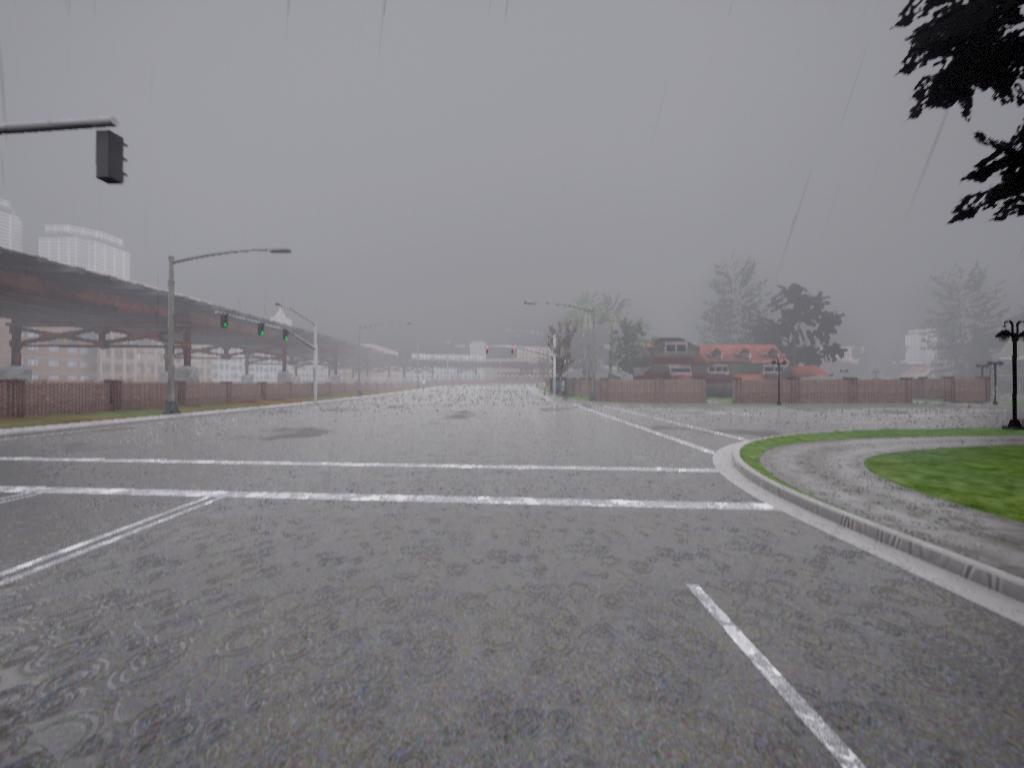traffic_light: (96, 132, 128, 187), (258, 322, 266, 340), (283, 327, 291, 344), (221, 317, 230, 332), (486, 345, 490, 356), (511, 347, 515, 356)
